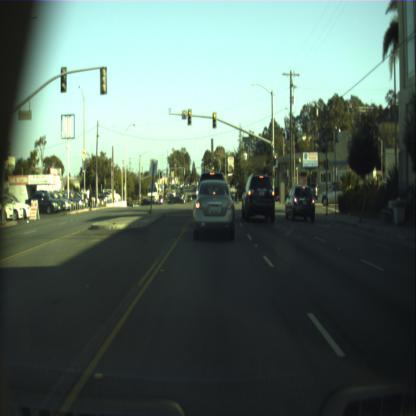Red: (188, 108, 192, 124), (212, 112, 216, 127), (273, 155, 276, 164)
